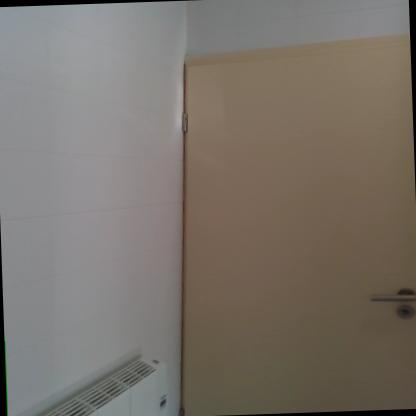closed: (179, 40, 416, 416)
